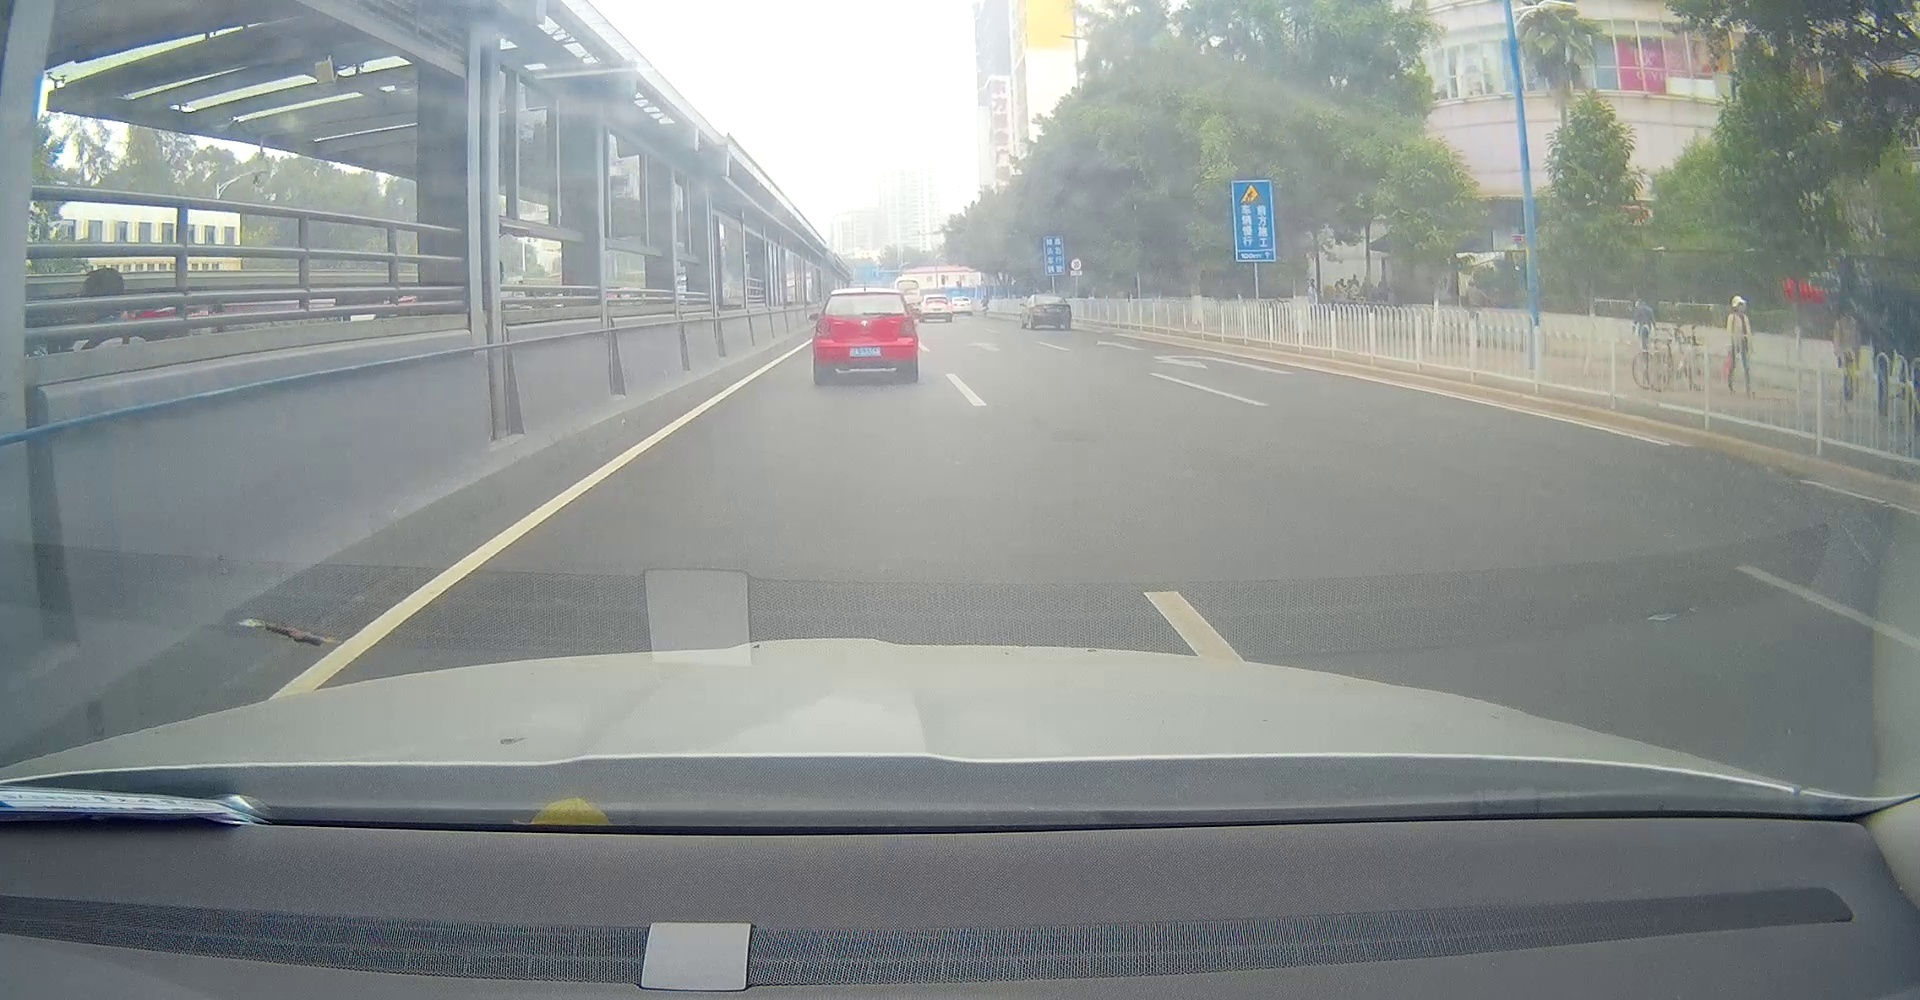L_light: (815, 320, 830, 338)
R_light: (899, 319, 916, 338)
T_light: (858, 296, 872, 299)
day-no: (813, 287, 918, 382)
